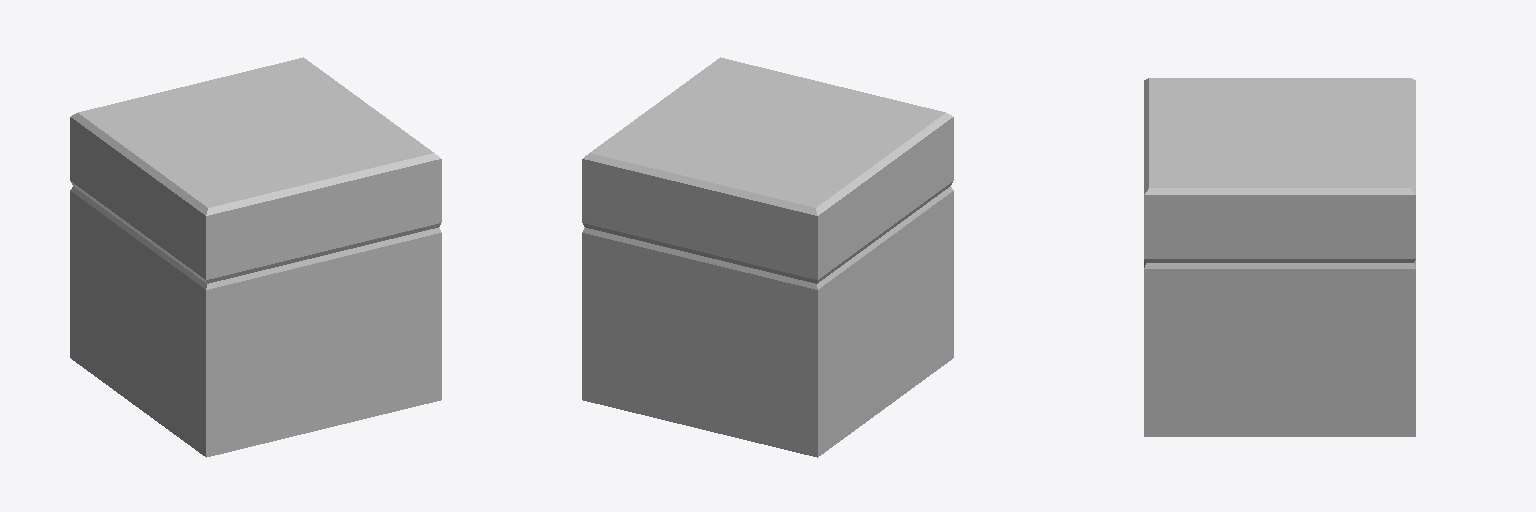
Rendered from BuildableBlock01D.obj.
3 renders of one model, left to right at view 1: azimuth 30°, elevation 25°; view 2: azimuth 150°, elevation 25°; view 3: azimuth 270°, elevation 25°, orthographic.
Visible parts, largest first — view 1: Floor01_Cube.014; view 2: Floor01_Cube.014; view 3: Floor01_Cube.014.
Part boxes in pixels (left/top/right/bottom): Floor01_Cube.014: left=70, top=57, right=441, bottom=457; Floor01_Cube.014: left=582, top=57, right=953, bottom=457; Floor01_Cube.014: left=1144, top=78, right=1415, bottom=436.
Size of the model in its own units: 2 by 2 by 2.